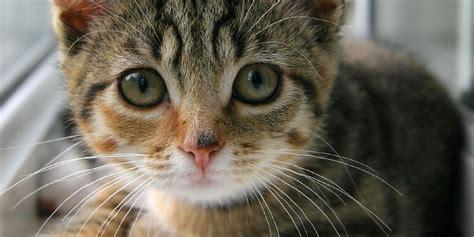cat: (54, 1, 462, 237)
